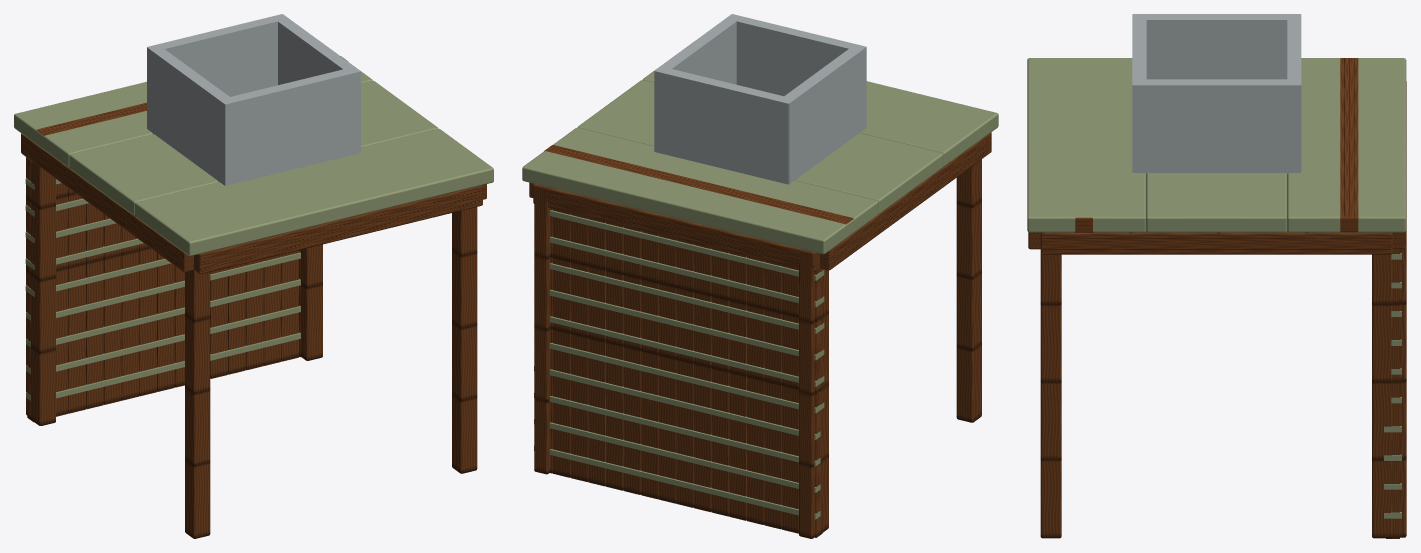
The model's file is prehistoric-survivor-settlement-hide-smokehouse-shell-242ec361__23203.glb.
3 views of the same model, side by side, from view 1: azimuth 30°, elevation 25°; view 2: azimuth 150°, elevation 25°; view 3: azimuth 270°, elevation 25° (orthographic). The views are drawn at different scales.
Visible parts, largest first — view 1: hide-smokehouse-shell; view 2: hide-smokehouse-shell; view 3: hide-smokehouse-shell.
Part boxes in pixels (<box>): hide-smokehouse-shell: <box>14,14,493,538</box>; hide-smokehouse-shell: <box>522,14,998,538</box>; hide-smokehouse-shell: <box>1027,14,1406,538</box>.
Size of the model in its own units: 2.15 by 2.6 by 2.15.
3 materials, 1 textured.
